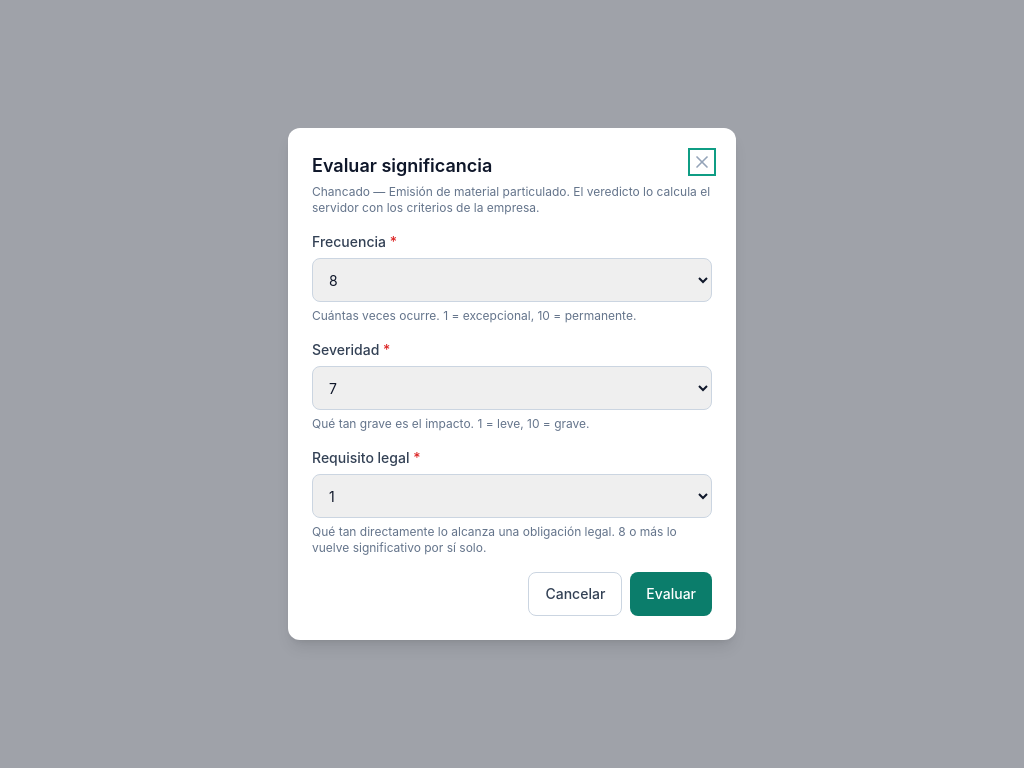
Test: evaluar un aspecto › si la API rechaza, lo dice y no afirma ningún veredicto
What coordinates should you click on to do the following:
click the button "Evaluar"
I would click on:
 (671, 594)
Its box is [630,572,712,616].
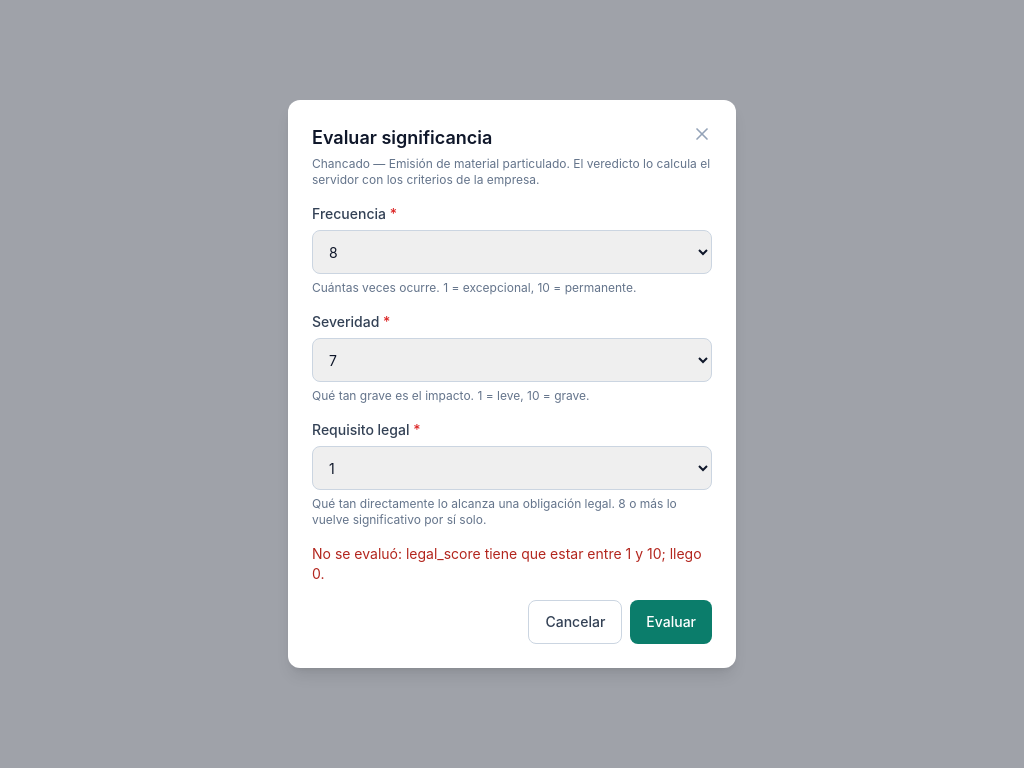
Check: the message shows "No se evaluó", box [312,545,406,562]
